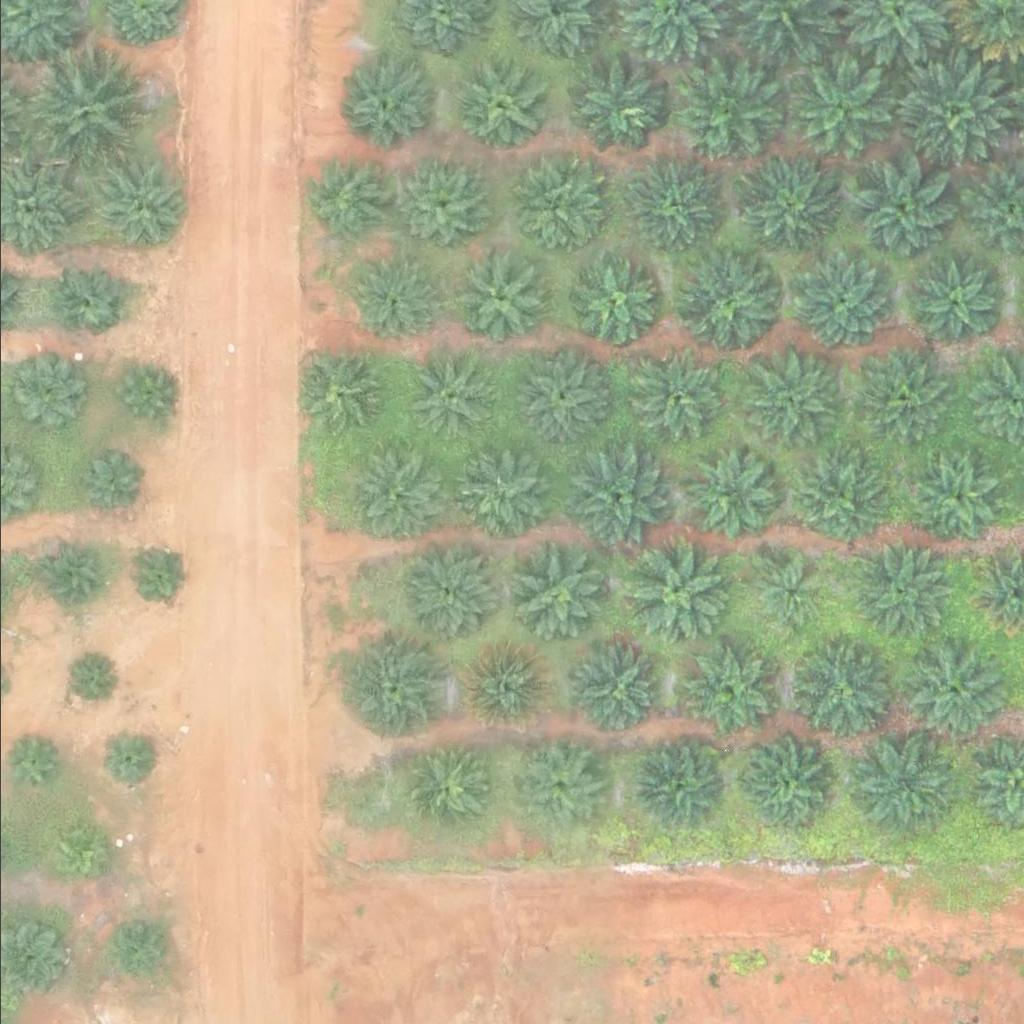Kelapa_Sawit: (24, 50, 150, 175), (778, 55, 891, 168), (896, 54, 1009, 166), (623, 548, 724, 648), (903, 448, 1004, 548), (787, 449, 888, 549), (563, 447, 664, 547), (850, 351, 951, 451), (741, 350, 842, 450), (624, 349, 725, 449), (508, 347, 609, 447), (790, 250, 891, 350), (677, 255, 778, 355), (850, 158, 951, 258), (734, 156, 835, 256), (624, 158, 725, 258), (680, 66, 781, 166), (350, 444, 451, 544), (502, 546, 603, 646), (398, 544, 499, 644), (344, 643, 445, 743), (854, 733, 954, 833), (902, 638, 1002, 738), (788, 640, 888, 740), (850, 543, 950, 643), (569, 55, 669, 155), (337, 58, 437, 158), (391, 160, 491, 260), (87, 155, 187, 255), (684, 650, 772, 738), (574, 644, 662, 732), (566, 257, 654, 345), (453, 257, 541, 345), (347, 259, 435, 347), (407, 355, 495, 443), (297, 352, 385, 440), (463, 644, 551, 732), (400, 749, 488, 837), (734, 743, 822, 830), (637, 744, 725, 831), (511, 743, 599, 830), (688, 452, 776, 539), (906, 260, 994, 347), (507, 163, 595, 250), (457, 66, 545, 153), (300, 160, 388, 247), (460, 459, 548, 546), (746, 555, 822, 630), (46, 260, 122, 335), (5, 358, 80, 433), (127, 543, 190, 606), (38, 544, 101, 607), (43, 818, 106, 881), (105, 910, 168, 973), (111, 363, 174, 425), (78, 453, 141, 515), (96, 728, 159, 790), (64, 658, 115, 708)
